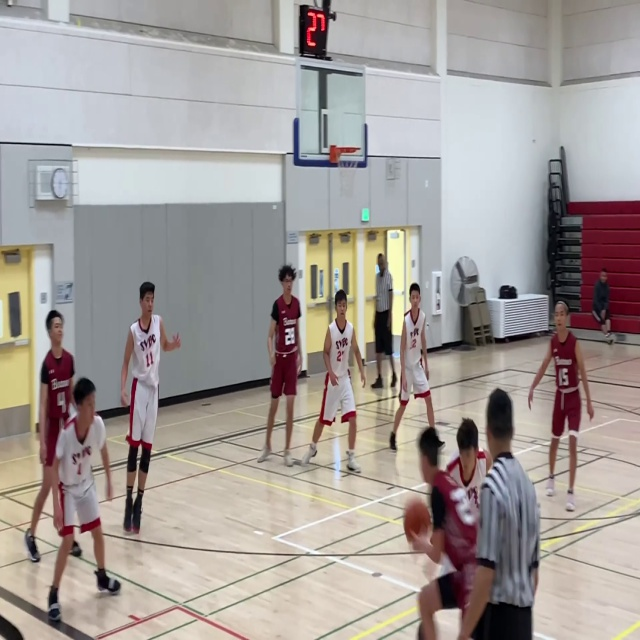Basketball: (403, 497, 430, 541)
